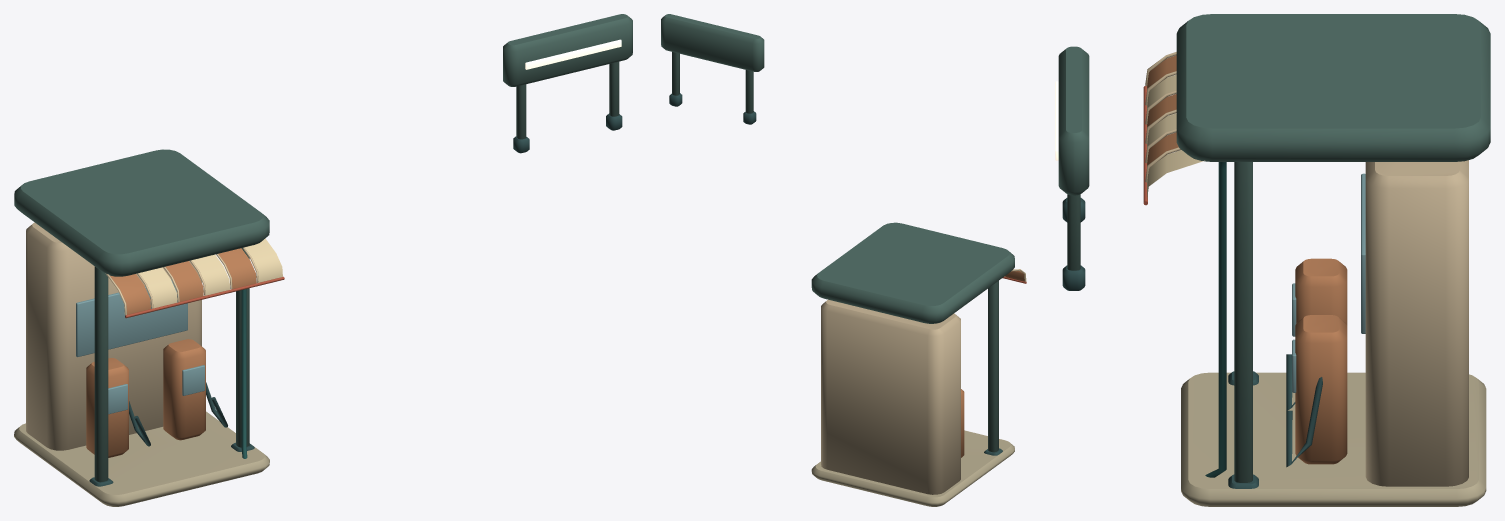
The model's file is wilderness_fuel_4.glb.
The picture shows the model from 3 angles, left to right: view 1: azimuth 30°, elevation 25°; view 2: azimuth 150°, elevation 25°; view 3: azimuth 270°, elevation 25°; orthographic projection. The views are drawn at different scales.
Parts seen in each view (by area): view 1: WildernessFuel4; view 2: WildernessFuel4; view 3: WildernessFuel4.
Part boxes in pixels (x1,y1,x2,y2): WildernessFuel4: [14, 14, 632, 506]; WildernessFuel4: [661, 14, 1026, 506]; WildernessFuel4: [1055, 14, 1490, 506].
Size of the model in its own units: 6.82 by 5.43 by 3.53.
